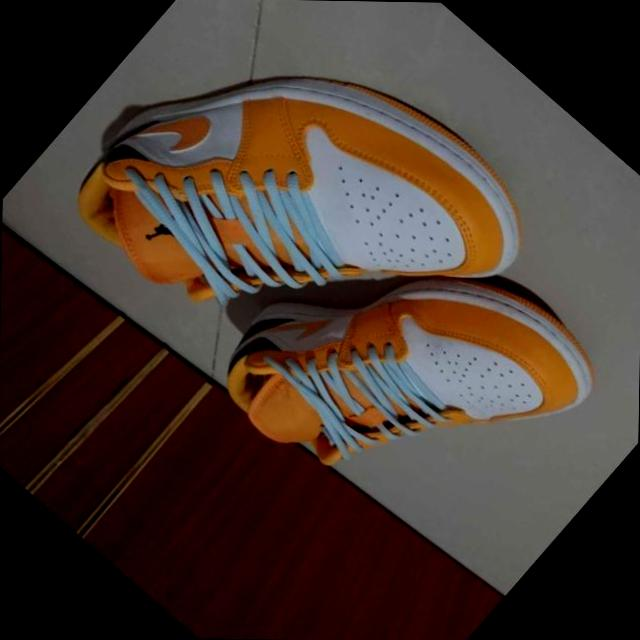nike_original_jordan: (50, 0, 559, 460), (196, 162, 618, 581)
